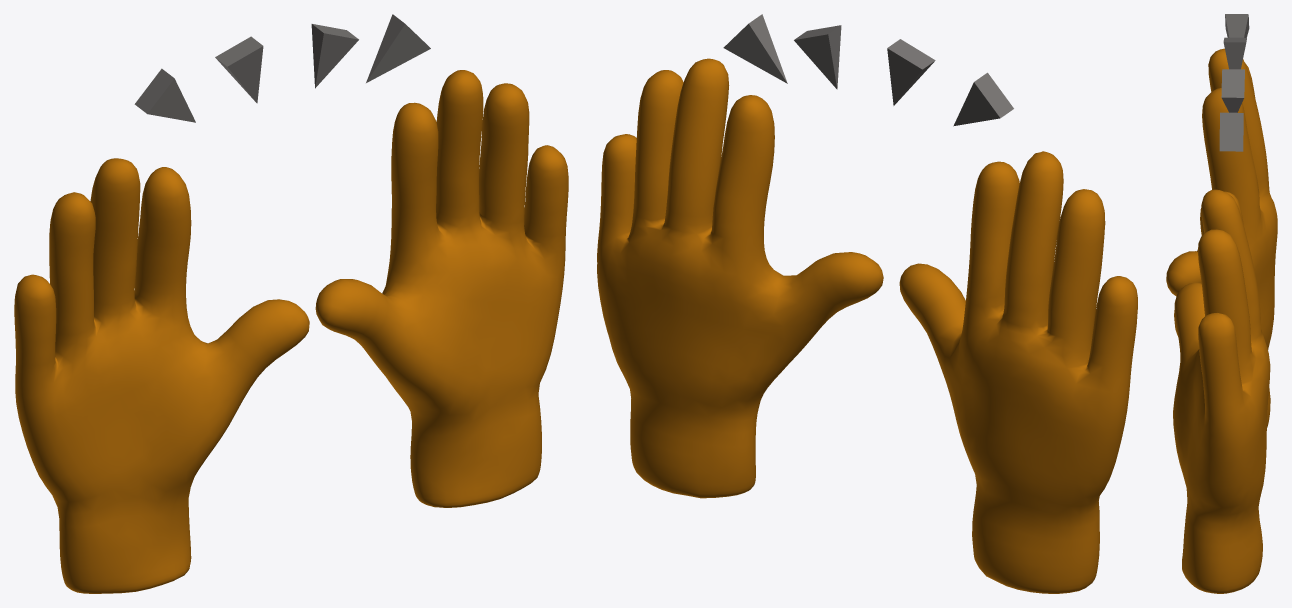
Rendered from Rising Hands.FBX.
3 views of the same model, side by side, from view 1: azimuth 30°, elevation 25°; view 2: azimuth 150°, elevation 25°; view 3: azimuth 270°, elevation 25° (orthographic). The views are drawn at different scales.
Parts seen in each view (by area): view 1: Group50219, Group001, Pyramid008, Pyramid009, Pyramid011, Pyramid010; view 2: Group001, Group50219, Pyramid008, Pyramid009, Pyramid011, Pyramid010; view 3: Group001, Group50219, Pyramid008, Pyramid010, Pyramid011, Pyramid009.
Part boxes in pixels (x1,y1,x2,y2): Group50219: [14, 158, 309, 593]; Group001: [315, 70, 568, 507]; Pyramid008: [366, 14, 430, 82]; Pyramid009: [134, 68, 195, 122]; Pyramid011: [215, 36, 263, 103]; Pyramid010: [311, 24, 358, 88]; Group001: [597, 58, 883, 498]; Group50219: [899, 151, 1137, 593]; Pyramid008: [723, 14, 787, 83]; Pyramid009: [953, 72, 1013, 126]; Pyramid011: [887, 39, 935, 105]; Pyramid010: [794, 25, 841, 89]; Group001: [1173, 189, 1270, 593]; Group50219: [1166, 48, 1277, 427]; Pyramid008: [1219, 112, 1243, 151]; Pyramid010: [1221, 69, 1244, 112]; Pyramid011: [1223, 37, 1246, 69]; Pyramid009: [1225, 14, 1249, 37].
Size of the model in its own units: 19.42 by 17.22 by 3.89.
